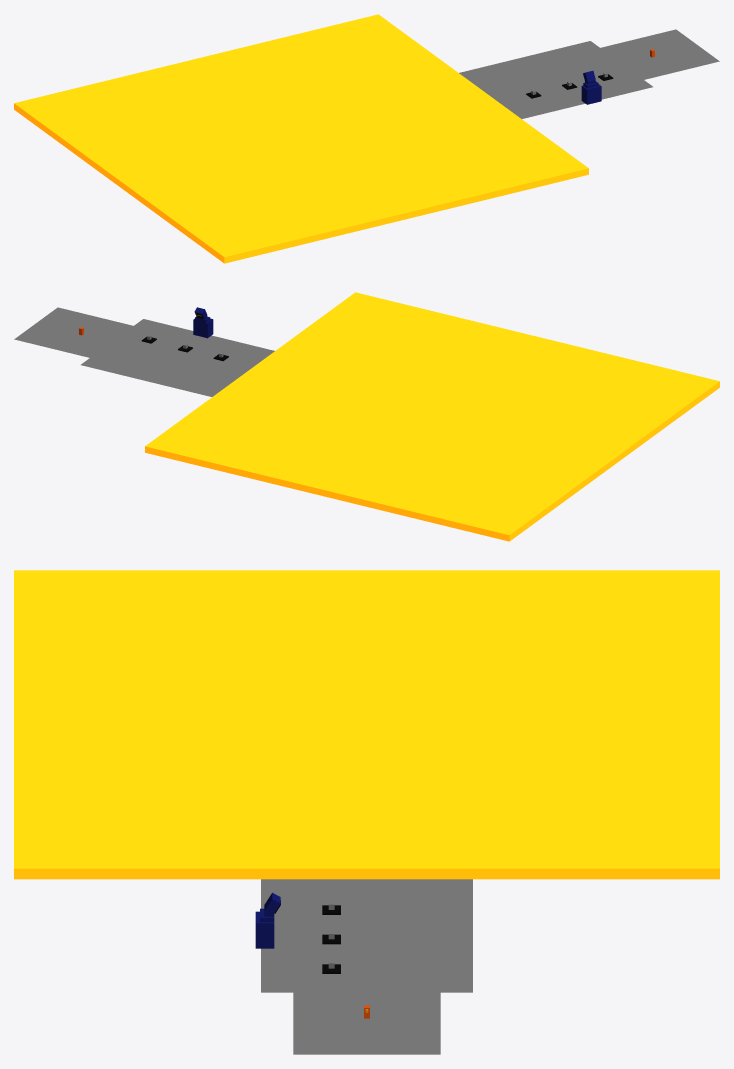
Rendered from HUBconTienda.fbx.
The picture shows the model from 3 angles, top to bottom: view 1: azimuth 30°, elevation 25°; view 2: azimuth 150°, elevation 25°; view 3: azimuth 270°, elevation 25°; orthographic projection. The views are drawn at different scales.
Parts seen in each view (by area): view 1: RoomTransitionBoss__1_, Suelo__81_, Suelo__82_; view 2: RoomTransitionBoss__1_, Suelo__81_, Suelo__82_; view 3: RoomTransitionBoss__1_, Suelo__81_, Suelo__82_.
Part boxes in pixels (box(x1,y1,x2,y2)): RoomTransitionBoss__1_: box(14, 14, 588, 263); Suelo__81_: box(459, 41, 652, 118); Suelo__82_: box(600, 29, 719, 79); RoomTransitionBoss__1_: box(145, 292, 719, 541); Suelo__81_: box(81, 319, 274, 396); Suelo__82_: box(14, 307, 133, 357); RoomTransitionBoss__1_: box(14, 570, 719, 879); Suelo__81_: box(261, 879, 472, 992); Suelo__82_: box(293, 992, 440, 1054).
Bounding box in the file's own units: 19055 × 878 × 12000.
